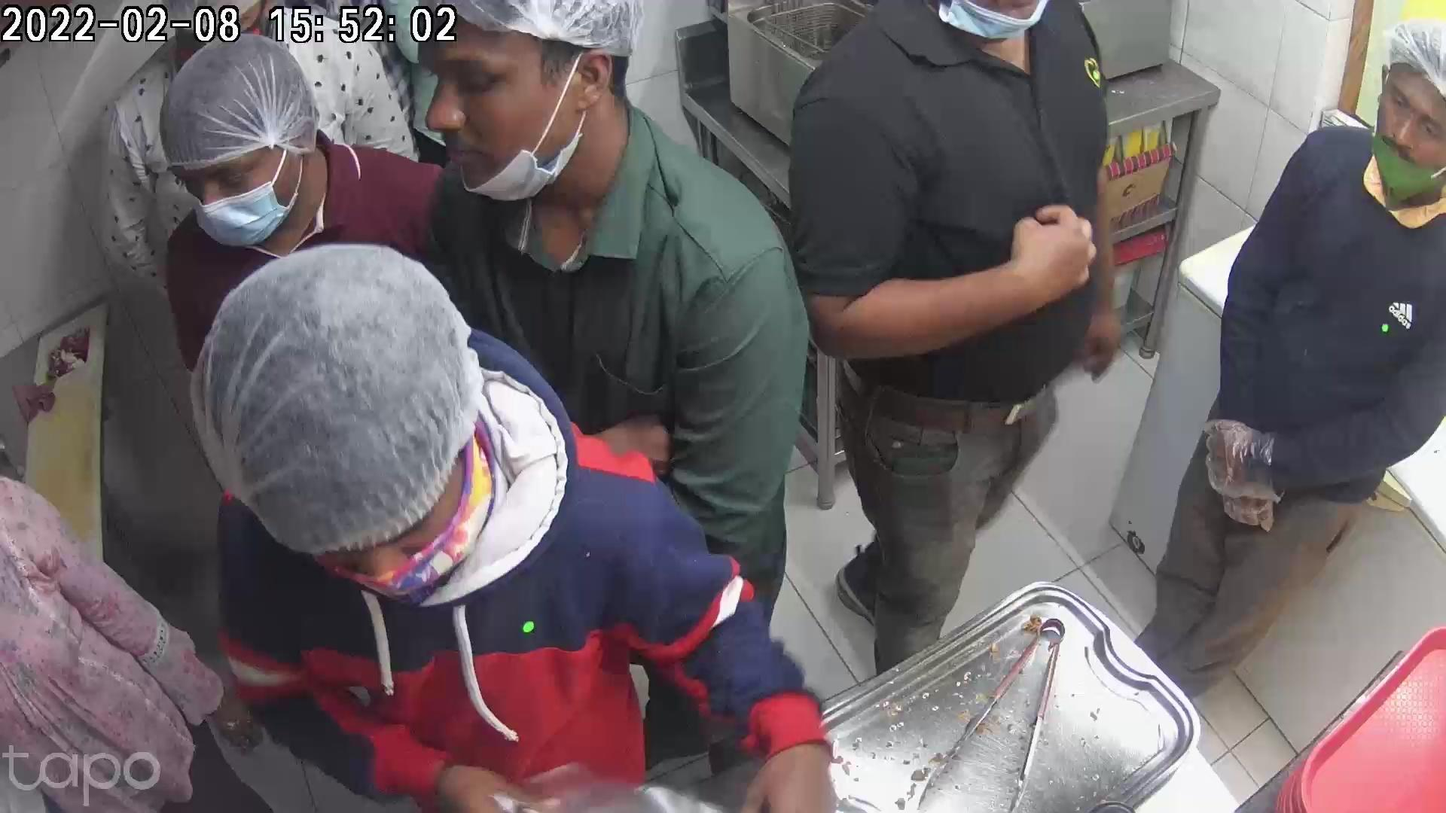no_gloves: (997, 206, 1089, 318)
